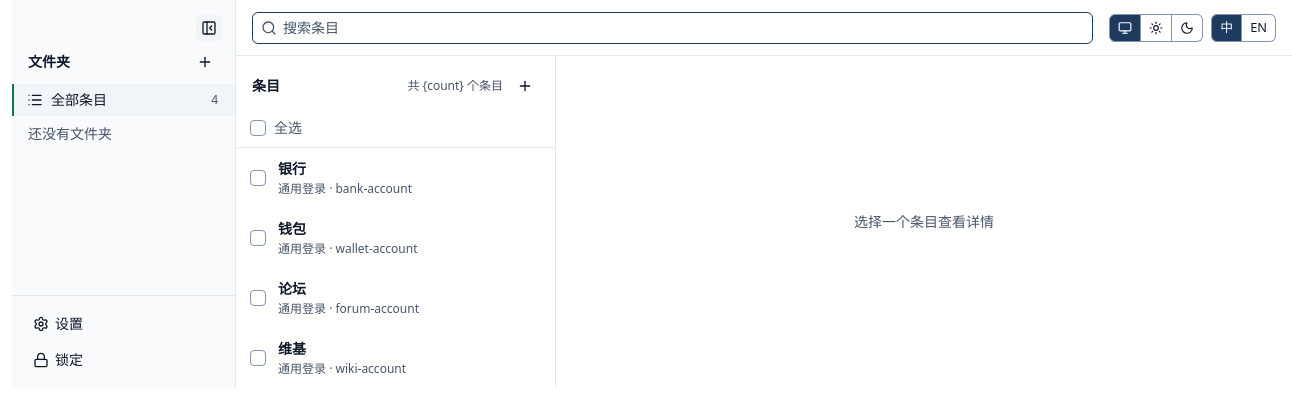
Test: 自动锁定: 对话框与重新解锁 › 设置对话框开着时被自动锁定, 对话框一并消失
Click the button "设置" at (124, 324), box [24, 308, 223, 340]
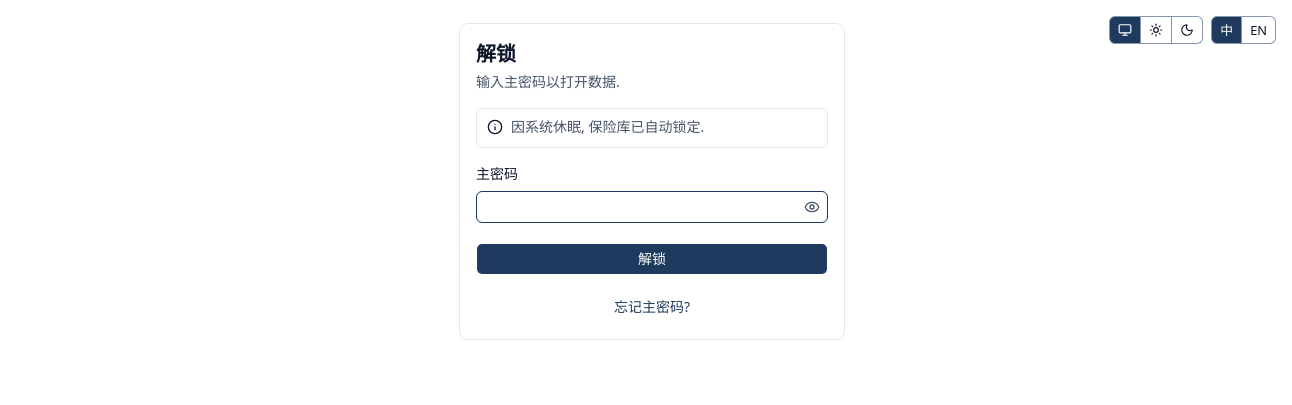
Expected: the heading "解锁" is shown, [476, 40, 516, 67]
